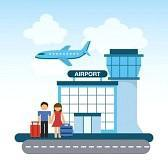aeroplane: (32, 40, 92, 68)
person: (35, 98, 51, 137), (50, 101, 66, 138)
